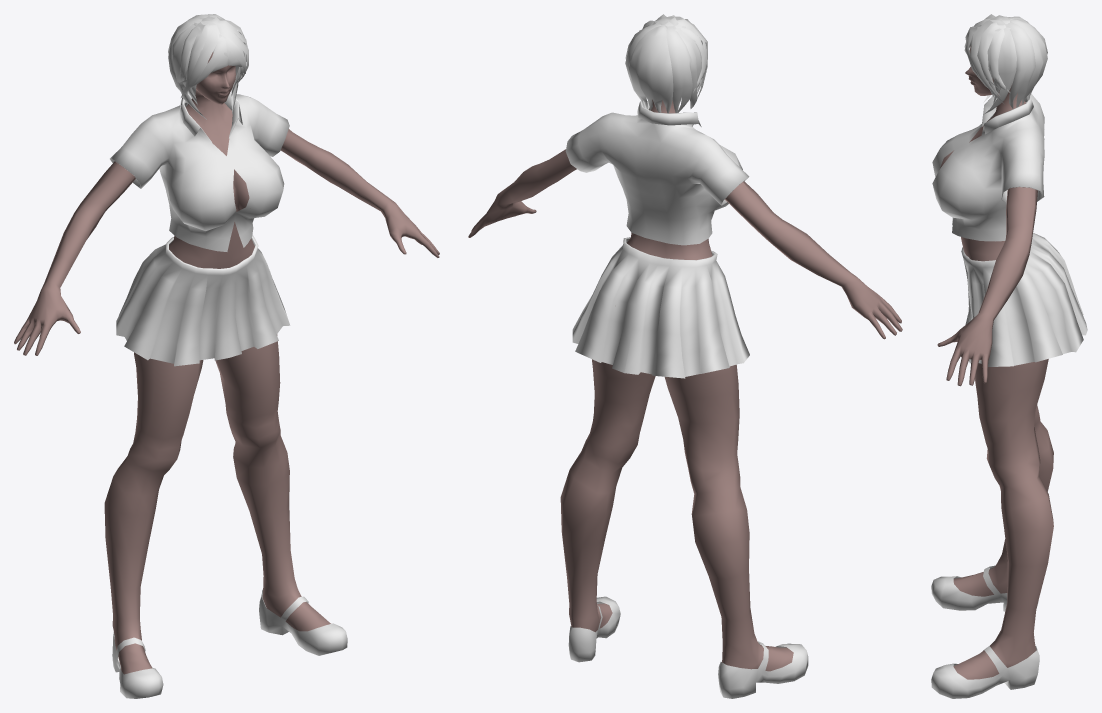
The model's file is unityexport.fbx.
3 renders of one model, left to right at view 1: azimuth 30°, elevation 25°; view 2: azimuth 150°, elevation 25°; view 3: azimuth 270°, elevation 25°, orthographic. The views are drawn at different scales.
Parts seen in each view (by area): view 1: piel; view 2: piel; view 3: piel.
Part boxes in pixels (x1=…): piel: x1=14, y1=14, x2=439, y2=698; piel: x1=468, y1=14, x2=902, y2=698; piel: x1=931, y1=14, x2=1087, y2=698.
Bounding box in the file's own units: 265 × 386 × 87.25.
